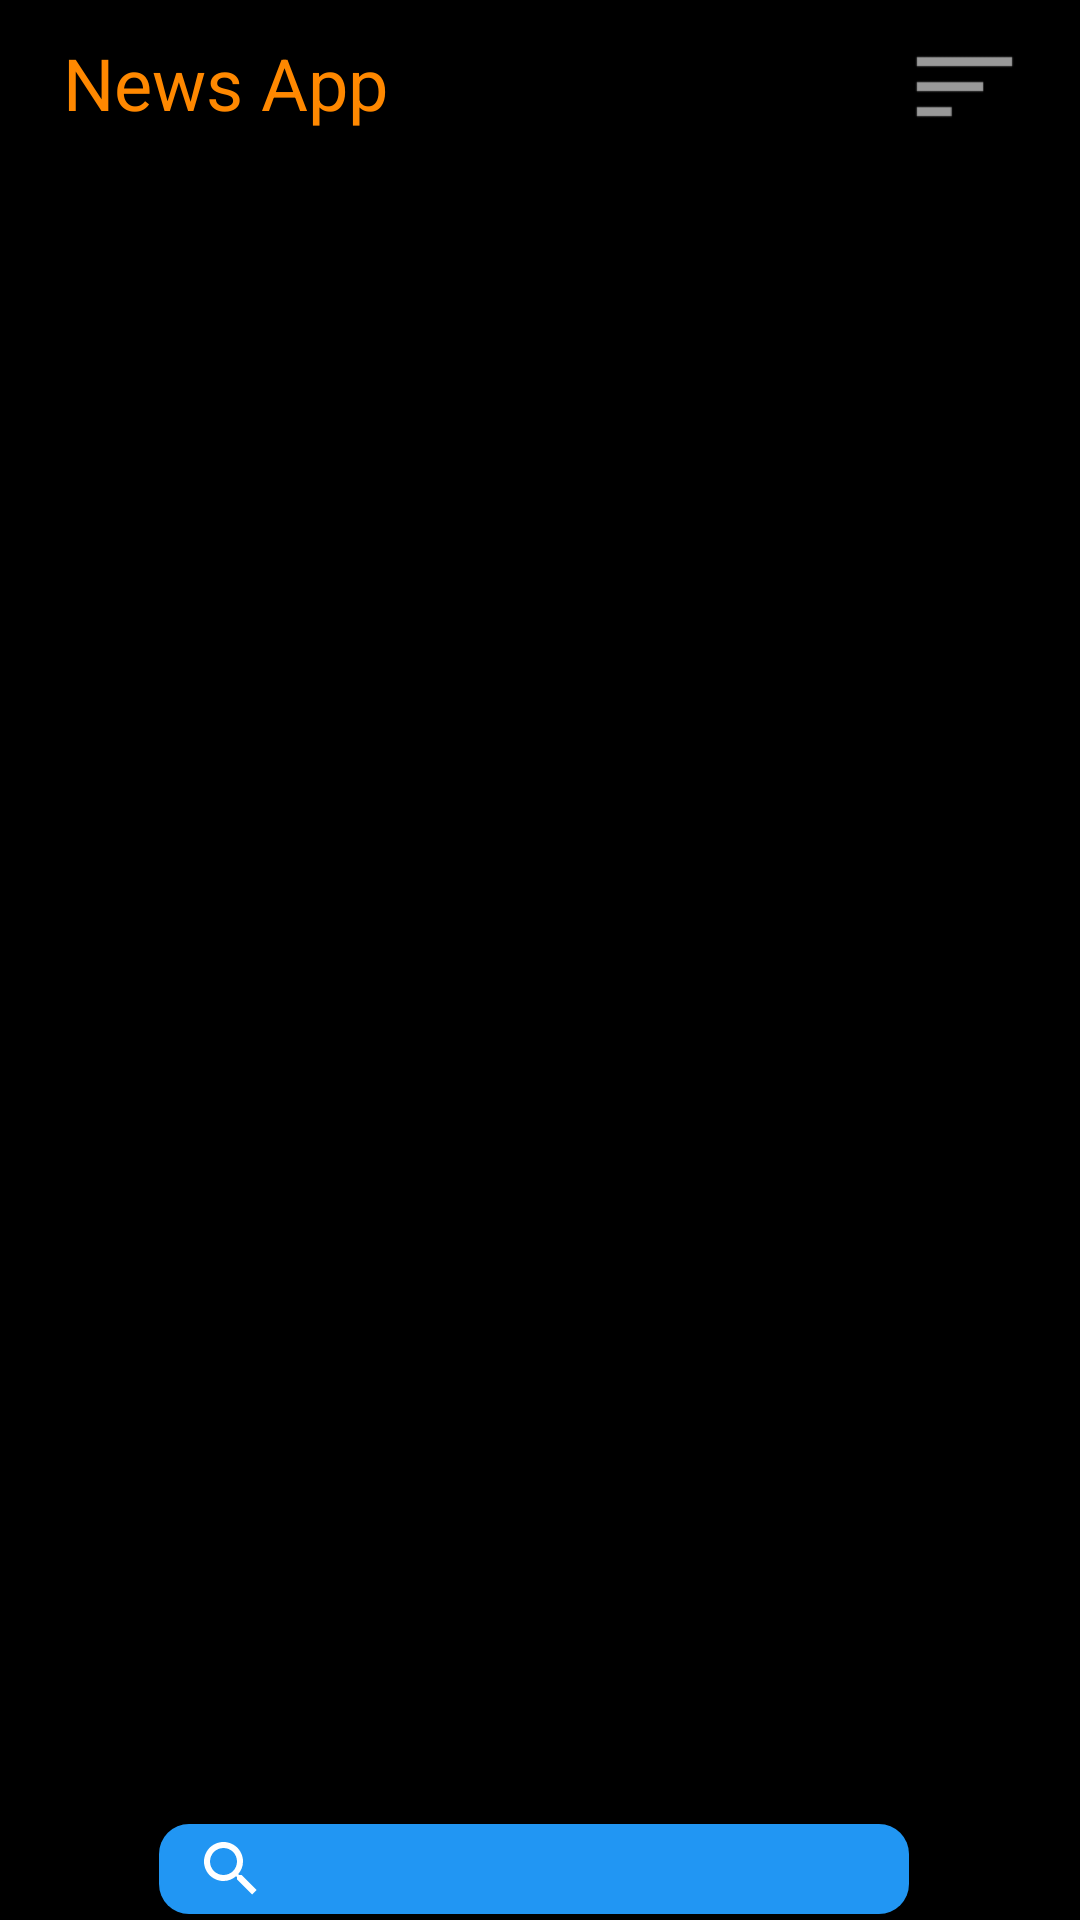

Icons on this 1080 × 1920 Android screen, each with its box as bbox=(x1, y1, x2, y2):
sort by size: bbox=(916, 56, 1013, 117)
